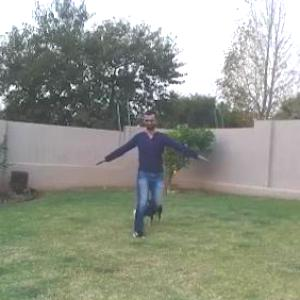land: (105, 116, 208, 235)
